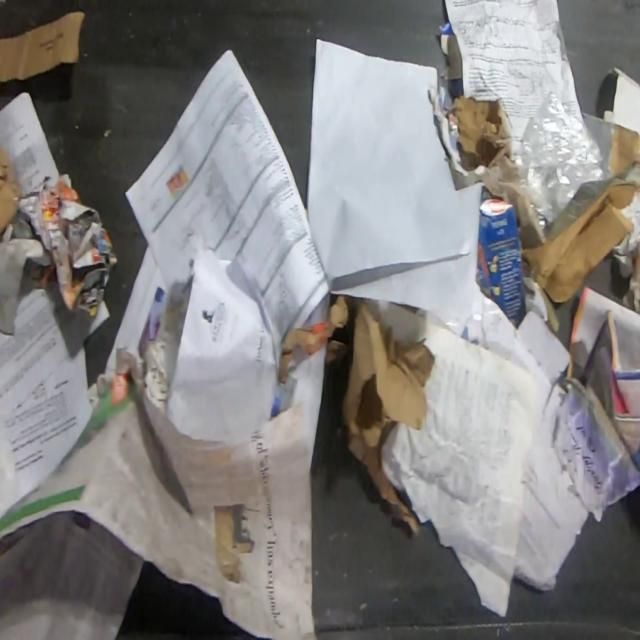cardboard: (340, 296, 437, 536), (520, 181, 638, 307), (476, 183, 526, 329), (277, 294, 351, 386), (0, 9, 87, 85), (452, 93, 512, 173), (602, 65, 639, 133), (0, 143, 24, 236), (610, 124, 640, 179)
soft_plastic: (480, 90, 614, 248)
